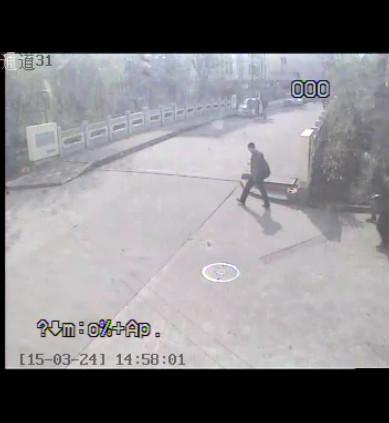person: (235, 141, 273, 208), (373, 174, 389, 253), (260, 98, 271, 121), (248, 97, 254, 120)
